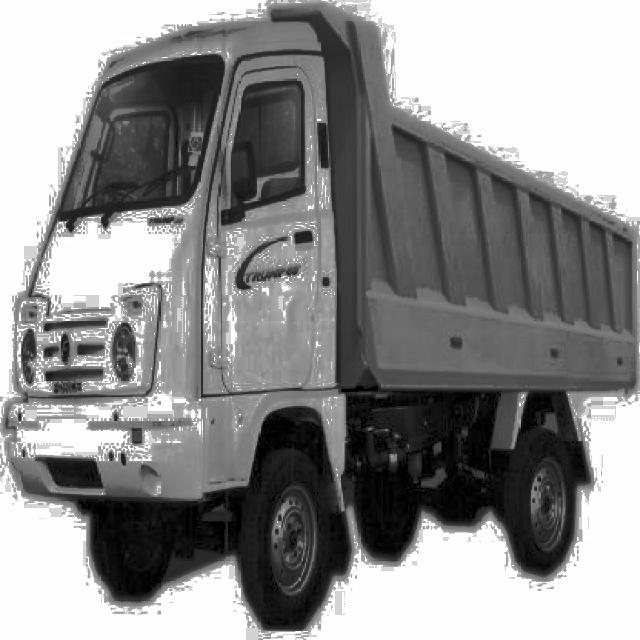LCV: (15, 51, 608, 585)
